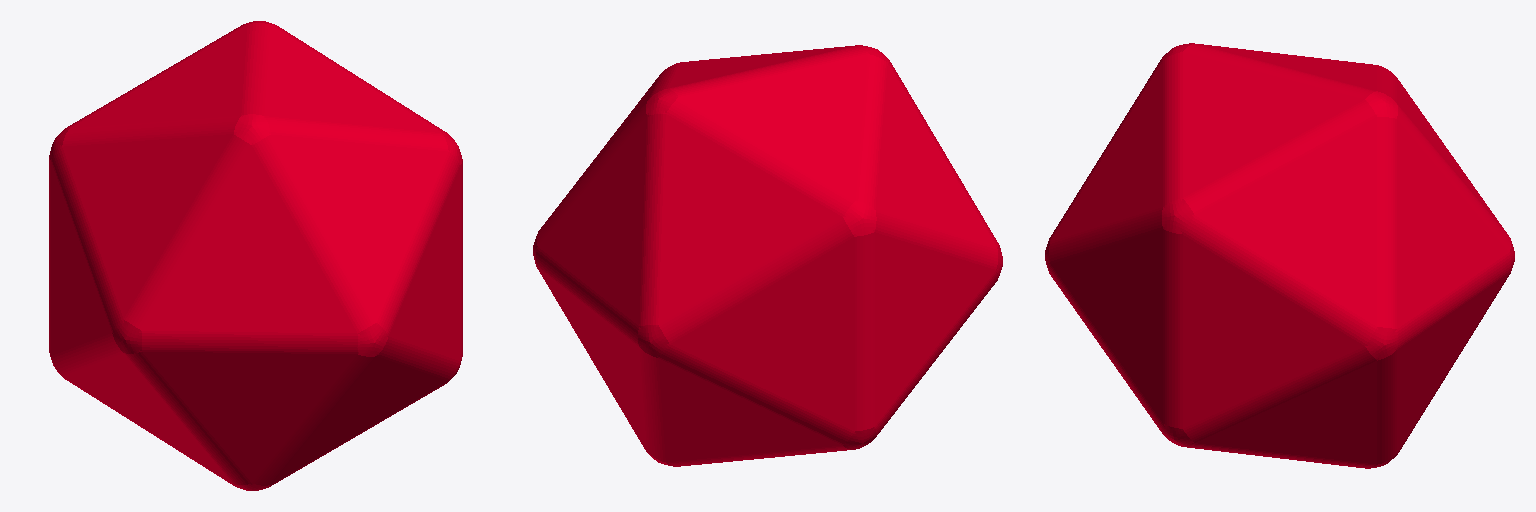
URDF robot description (icosahedron.urdf):
<?xml version="1.0" ?>
<robot name="icosahedron.urdf">

  <link name="icosahedron">
    <contact>
    	<friction_anchor/>
    	   <lateral_friction value="1.0"/>
    </contact>
    <inertial>
      <origin rpy="0 0 0" xyz="0 0 0"/>
       <mass value=".1"/>
       <inertia ixx="1" ixy="0" ixz="0" iyy="1" iyz="0" izz="1"/>
    </inertial>
    <visual>
      <origin rpy="0 0 0" xyz="0 0 0"/>
      <geometry>
				<mesh filename="icosahedron_rounded.obj" scale="1.0 1.0 1.0"/>
      </geometry>
       <material name="red">
        <color rgba="0.9 0 0.2 1.0"/>
      </material>
    </visual>
    <collision>
      <origin rpy="0 0 0" xyz="0 0 0"/>
      <geometry>
				<mesh filename="icosahedron_rounded.obj" scale="1.0 1.0 1.0"/>
      </geometry>
    </collision>
  </link>


</robot>

--- What the picture shows (computed from the rendered views, not written in the file) ---
The picture shows the robot from 3 angles, left to right: view 1: azimuth 30°, elevation 25°; view 2: azimuth 150°, elevation 25°; view 3: azimuth 270°, elevation 25°; orthographic projection.
Robot: icosahedron.urdf — 1 links, 0 joints (none); root link icosahedron; default pose: every joint at zero.
Visible links, largest first — view 1: icosahedron; view 2: icosahedron; view 3: icosahedron.
Boxes of the visible links, left/top/right/bottom form: icosahedron: left=49, top=21, right=462, bottom=490; icosahedron: left=533, top=45, right=1002, bottom=466; icosahedron: left=1045, top=43, right=1514, bottom=468.
Bounding box of the posed robot: 0.1226 × 0.135 × 0.1176 m (x, y, z).
Meshes: 1 distinct files referenced, 1 mesh visuals loaded (1 OBJ).